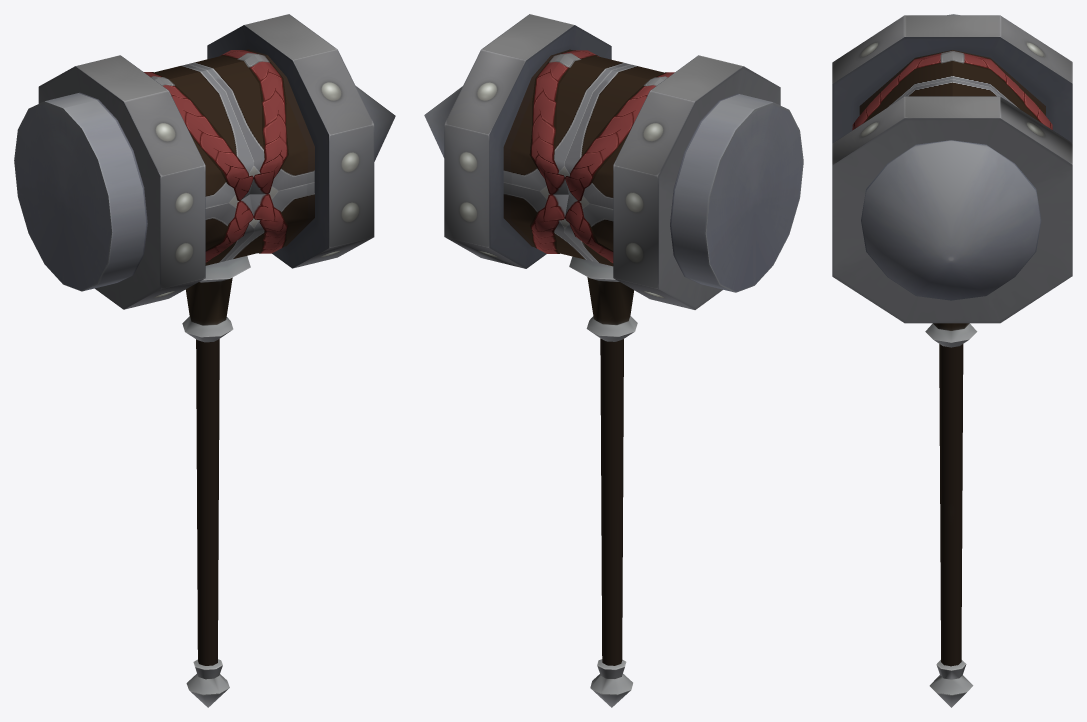
File: wp_hammer_nlv40.fbx
The picture shows the model from 3 angles, left to right: view 1: azimuth 30°, elevation 25°; view 2: azimuth 150°, elevation 25°; view 3: azimuth 270°, elevation 25°; orthographic projection.
Visible parts, largest first — view 1: wp_hammer_nlv40; view 2: wp_hammer_nlv40; view 3: wp_hammer_nlv40.
Boxes of the visible parts, x1,y1,x2,y2 form: wp_hammer_nlv40: [14, 14, 395, 707]; wp_hammer_nlv40: [424, 14, 803, 707]; wp_hammer_nlv40: [832, 14, 1072, 707].
Bounding box in the file's own units: 140 × 262 × 89.16.
